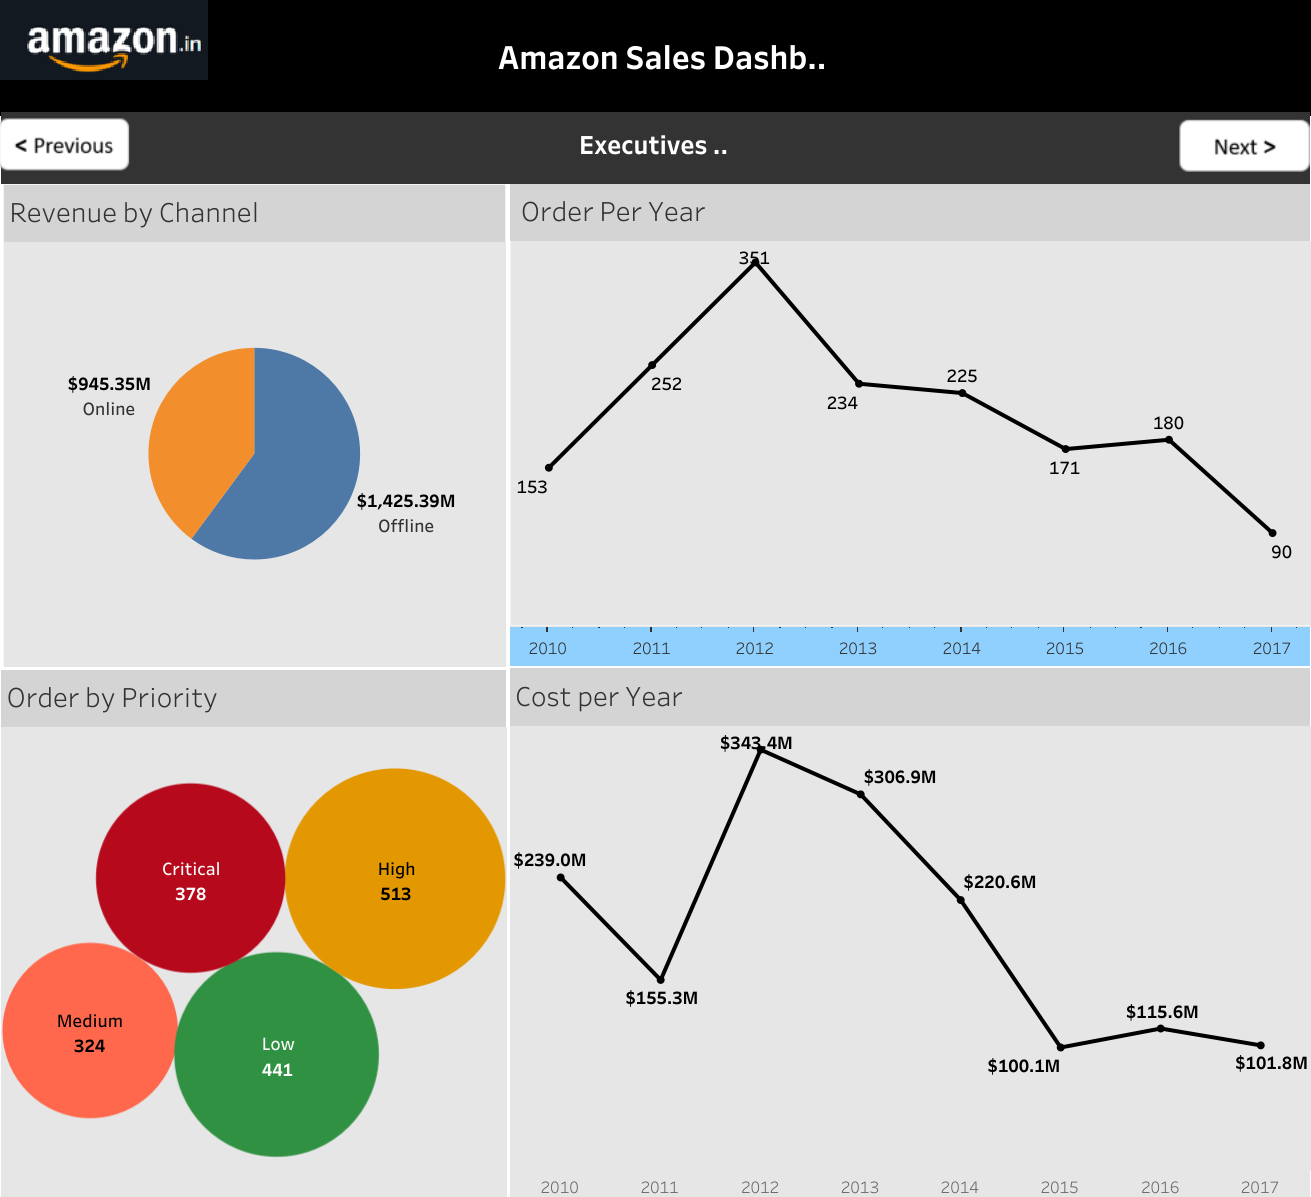

What the dashboard file says about the page in this screenshot:
{"tool":"tableau","page":{"name":"Executives Page ","canvas":[1000,1000],"units":"permille","ordinal":0},"visuals":[{"type":"text","box":[0,0,1000,1000]},{"type":"image","param":"C:/Users/hp/Downloads/Picture3.png","box":[0,0,158.7,101.1]},{"type":"text","box":[375.2,27.1,258.9,39.5]},{"type":"blank","box":[0.6,93.7,997.6,59.2]},{"type":"dashboard-object","box":[896.7,93.7,100.3,55.5]},{"type":"text","box":[436,99.9,124.2,39.5]},{"type":"worksheet","title":"Revenue by Channel","mark":"Pie","box":[1.8,152.9,383.8,403.2]},{"type":"worksheet","title":" Order Per Year","mark":"Automatic","rows":["Calculation_531987745295790081"],"cols":["Order Date"],"box":[388.1,152.9,609.5,403.2]},{"type":"worksheet","title":"Cost per Year","mark":"Automatic","rows":["Total Cost"],"cols":["Order Date"],"box":[388.3,557.3,609.9,442.7]},{"type":"worksheet","title":"Order by Priority","mark":"Circle","box":[0.6,558.6,384.4,441.4]}]}

Visuals, with their boxes on the dashboard's canvas, which has no fixed pixel size, in thousandths of its width and height (x1, y1, x2, y2). These are canvas units, not pixel positions in the 1311x1197 screenshot, which may show the page scaled, cropped or inside an application window:
text: {"left": 0, "top": 0, "right": 1000, "bottom": 1000}
image: {"left": 0, "top": 0, "right": 159, "bottom": 101}
text: {"left": 375, "top": 27, "right": 634, "bottom": 67}
blank: {"left": 1, "top": 94, "right": 998, "bottom": 153}
dashboard-object: {"left": 897, "top": 94, "right": 997, "bottom": 149}
text: {"left": 436, "top": 100, "right": 560, "bottom": 139}
"Revenue by Channel" worksheet (Pie marks): {"left": 2, "top": 153, "right": 386, "bottom": 556}
" Order Per Year" worksheet: {"left": 388, "top": 153, "right": 998, "bottom": 556}
"Cost per Year" worksheet: {"left": 388, "top": 557, "right": 998, "bottom": 1000}
"Order by Priority" worksheet (Circle marks): {"left": 1, "top": 559, "right": 385, "bottom": 1000}
